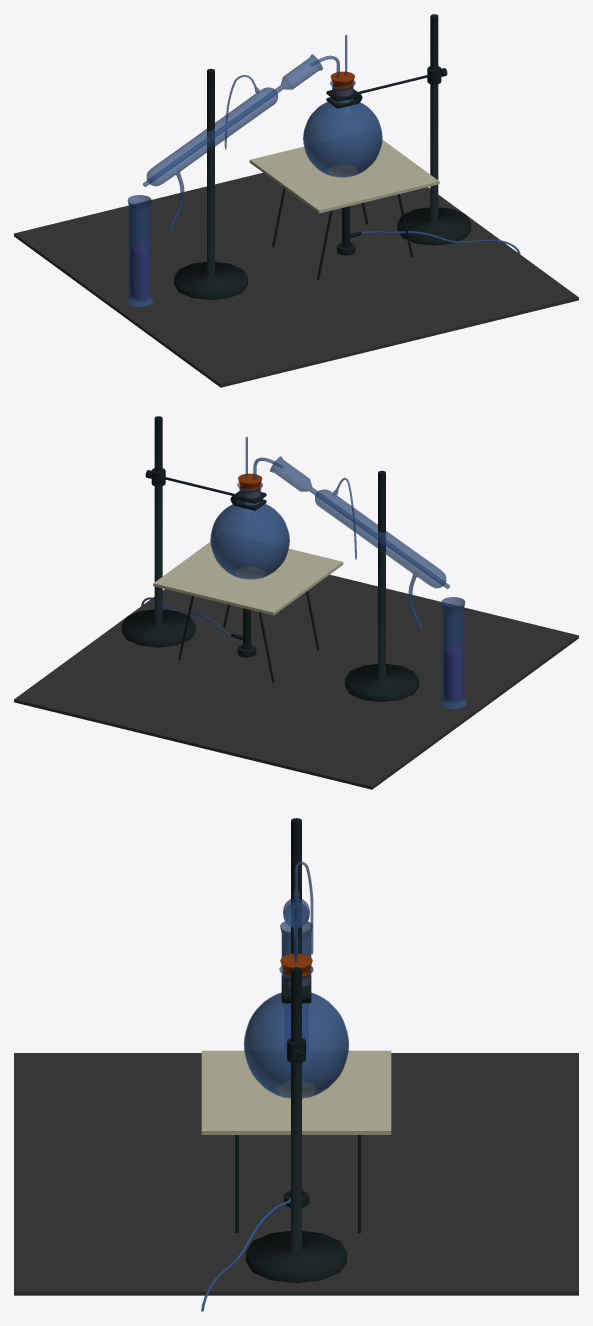
File: Sceince Book Model 74 Page.fbx
3 views of the same model, one above another, from view 1: azimuth 30°, elevation 25°; view 2: azimuth 150°, elevation 25°; view 3: azimuth 270°, elevation 25° (orthographic). The views are drawn at different scales.
Parts seen in each view (by area): view 1: Plane005, Cylinder021, Plane004, Sphere003, Cylinder024, Cylinder022, Cylinder025, Cylinder030, Cylinder018, Cylinder016, Sphere004; view 2: Plane005, Cylinder021, Plane004, Sphere003, Cylinder024, Cylinder022, Cylinder025, Cylinder030, Cylinder018, Cylinder016, Sphere004; view 3: Plane005, Plane004, Cylinder021, Sphere003, Cylinder024, Cylinder018, Sphere004, Cylinder022.
Part boxes in pixels (box(x1,y1,x2,y2)): Plane005: box(14, 172, 578, 387); Cylinder021: box(174, 14, 471, 299); Plane004: box(249, 139, 439, 213); Sphere003: box(303, 80, 382, 177); Cylinder024: box(146, 75, 277, 227); Cylinder022: box(126, 195, 153, 306); Cylinder025: box(143, 54, 322, 186); Cylinder030: box(131, 244, 148, 298); Cylinder018: box(272, 187, 413, 279); Cylinder016: box(336, 206, 361, 255); Sphere004: box(330, 71, 354, 95); Plane005: box(14, 574, 578, 789); Cylinder021: box(121, 416, 418, 701); Plane004: box(153, 541, 343, 615); Sphere003: box(210, 482, 289, 579); Cylinder024: box(315, 477, 446, 629); Cylinder022: box(439, 597, 466, 708); Cylinder025: box(270, 456, 449, 588); Cylinder030: box(444, 646, 461, 700); Cylinder018: box(178, 591, 319, 682); Cylinder016: box(231, 608, 256, 657); Sphere004: box(238, 473, 262, 497); Plane005: box(14, 1053, 578, 1295); Plane004: box(201, 1050, 391, 1134); Cylinder021: box(246, 818, 346, 1283); Sphere003: box(243, 965, 349, 1098); Cylinder024: box(283, 861, 313, 954); Cylinder018: box(235, 1135, 361, 1232); Sphere004: box(280, 953, 312, 986); Cylinder022: box(280, 921, 312, 975).
Bounding box in the file's own units: 3269 × 1930 × 3175.
